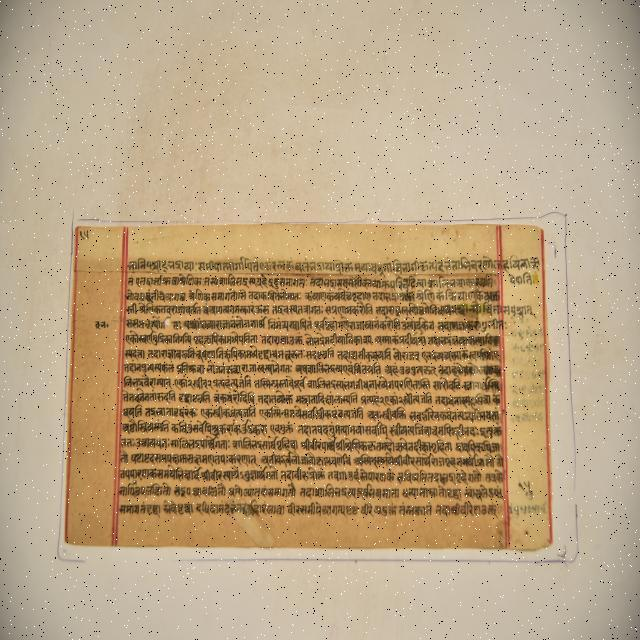text_paragraph: (61, 220, 553, 549)
